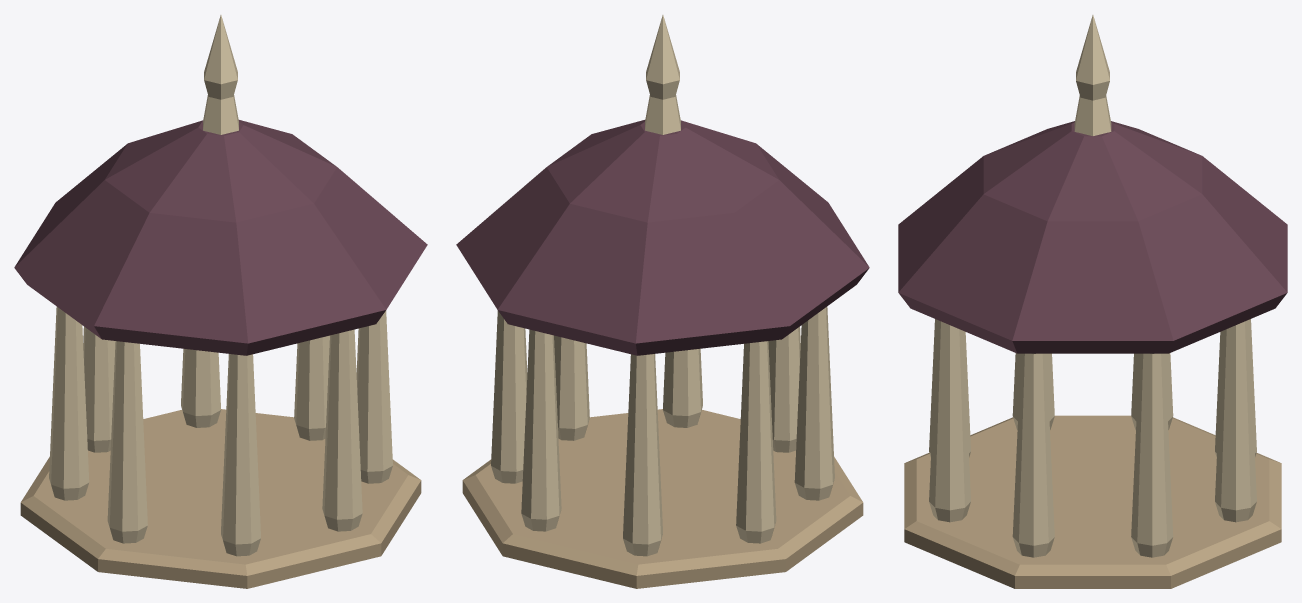
The model's file is Royal_Pavilion.fbx.
3 renders of one model, left to right at view 1: azimuth 30°, elevation 25°; view 2: azimuth 150°, elevation 25°; view 3: azimuth 270°, elevation 25°, orthographic.
Visible parts, largest first — view 1: Royal_Pavilion; view 2: Royal_Pavilion; view 3: Royal_Pavilion.
Part boxes in pixels (bbox=[...]): Royal_Pavilion: bbox=[14, 15, 427, 588]; Royal_Pavilion: bbox=[456, 15, 869, 588]; Royal_Pavilion: bbox=[898, 15, 1287, 588].
Size of the model in its own units: 5.91 by 8.3 by 5.91.
